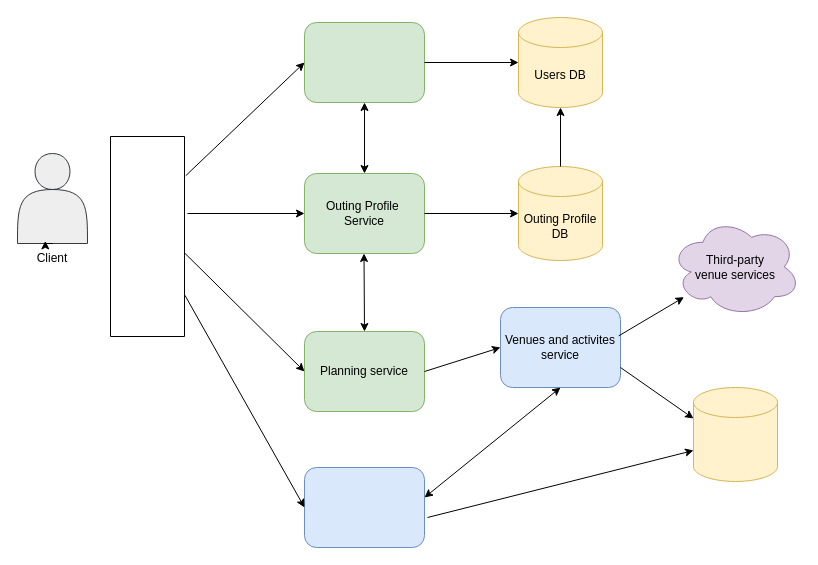
Image size: 818x565. Some labels were removed from this diagram. Each missing label, with the box of its shape:
Booking service: (304, 466, 424, 548)
Users service: (304, 22, 424, 102)
Venues Data base: (692, 386, 778, 482)
